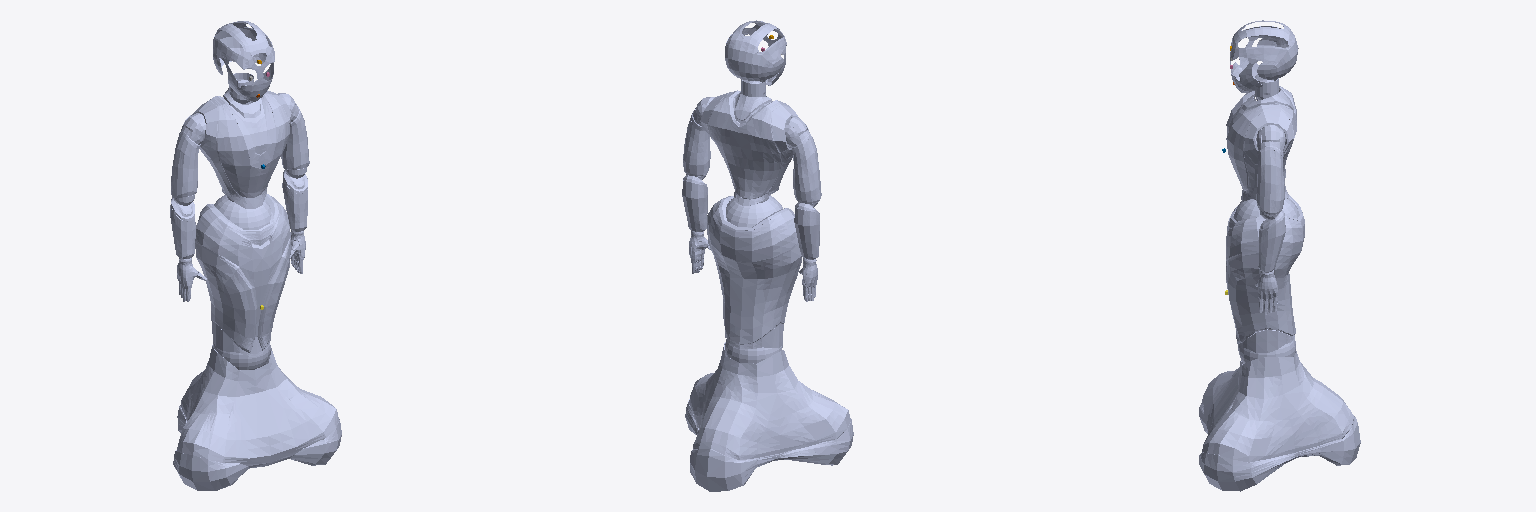
--- Facts derived from the render (not from the file) ---
Views: 3 orthographic renders of the robot side by side, from view 1: azimuth 30°, elevation 25°; view 2: azimuth 150°, elevation 25°; view 3: azimuth 270°, elevation 25°.
Robot: xr1 — 57 links, 56 joints (49 revolute, 7 fixed); root link base_link; default pose: all joints at 0.
Links seen in each view (by area): view 1: base_link, Leg_Link, Back_Link, Head_Link, Right_Arm_Link, Right_Foream_Link, Left_Forearm_Link, Left_Arm_Link, Thigh_Link2, Knee_Link; view 2: base_link, Leg_Link, Back_Link, Head_Link, Right_Arm_Link, Left_Arm_Link, Left_Forearm_Link, Right_Foream_Link, Thigh_Link2, Knee_Link; view 3: base_link, Leg_Link, Back_Link, Head_Link, Left_Arm_Link, Left_Forearm_Link, Knee_Link, Thigh_Link2.
Boxes of the visible links, <box> form: base_link: <box>173,342,341,490</box>; Leg_Link: <box>195,194,291,353</box>; Back_Link: <box>192,88,291,208</box>; Head_Link: <box>213,21,274,101</box>; Right_Arm_Link: <box>171,115,205,197</box>; Right_Foream_Link: <box>170,194,195,258</box>; Left_Forearm_Link: <box>282,167,307,231</box>; Left_Arm_Link: <box>281,101,309,169</box>; Thigh_Link2: <box>214,195,270,229</box>; Knee_Link: <box>212,322,270,356</box>; base_link: <box>685,339,853,491</box>; Leg_Link: <box>707,196,801,344</box>; Back_Link: <box>700,90,799,205</box>; Head_Link: <box>725,20,786,85</box>; Right_Arm_Link: <box>785,119,821,203</box>; Left_Arm_Link: <box>683,104,710,176</box>; Left_Forearm_Link: <box>682,173,707,231</box>; Right_Foream_Link: <box>794,201,819,258</box>; Thigh_Link2: <box>726,195,782,226</box>; Knee_Link: <box>725,324,783,348</box>; base_link: <box>1199,329,1360,491</box>; Leg_Link: <box>1226,195,1304,343</box>; Back_Link: <box>1226,86,1296,201</box>; Head_Link: <box>1230,20,1298,92</box>; Left_Arm_Link: <box>1256,128,1285,214</box>; Left_Forearm_Link: <box>1258,210,1285,272</box>; Knee_Link: <box>1238,330,1294,352</box>; Thigh_Link2: <box>1234,198,1298,221</box>.
Bounding box of the posed robot: 0.5765 × 0.5061 × 1.5 m (x, y, z).
51 mesh visuals loaded from 51 distinct referenced files (51 binary STL).

The robot description file, URDF, robot "xr1":
<?xml version="1.0" encoding="utf-8"?>
<!-- =================================================================================== -->
<!-- |    This document was autogenerated by xacro from xr1.xacro                      | -->
<!-- |    EDITING THIS FILE BY HAND IS NOT RECOMMENDED                                 | -->
<!-- =================================================================================== -->
<robot name="xr1" xmlns:xacro="http://www.ros.org/wiki/xacro">
  <!-- camera links  -->
  <!-- camera -->
  <gazebo reference="Leg_Camera_Link">
    <sensor name="leg_sensor" type="camera">
      <update_rate>30.0</update_rate>
      <camera name="leg_camera">
        <horizontal_fov>1.3962634</horizontal_fov>
        <image>
          <width>800</width>
          <height>800</height>
          <format>R8G8B8</format>
        </image>
        <clip>
          <near>0.02</near>
          <far>300</far>
        </clip>
        <noise>
          <type>gaussian</type>
          <!-- Noise is sampled independently per pixel on each frame.
               That pixel's noise value is added to each of its color
               channels, which at that point lie in the range [0,1]. -->
          <mean>0.0</mean>
          <stddev>0.007</stddev>
        </noise>
      </camera>
      <plugin filename="libgazebo_ros_camera.so" name="camera_controller">
        <alwaysOn>true</alwaysOn>
        <updateRate>0.0</updateRate>
        <cameraName>XR1/leg_camera</cameraName>
        <imageTopicName>XR1/leg_camera</imageTopicName>
        <cameraInfoTopicName>XR1/leg_camera/info</cameraInfoTopicName>
        <frameName>Leg_Link</frameName>
        <!-- setting hackBaseline to anything but 0.0 will cause a misalignment
            between the gazebo sensor image and the frame it is supposed to
            be attached to -->
        <hackBaseline>0.0</hackBaseline>
        <distortionK1>0.0</distortionK1>
        <distortionK2>0.0</distortionK2>
        <distortionK3>0.0</distortionK3>
        <distortionT1>0.0</distortionT1>
        <distortionT2>0.0</distortionT2>
        <CxPrime>0</CxPrime>
        <Cx>0.0</Cx>
        <Cy>0.0</Cy>
        <focalLength>0.0</focalLength>
      </plugin>
    </sensor>
  </gazebo>
  <gazebo reference="Chest_Camera_Link">
    <sensor name="Chest_sensor" type="camera">
      <update_rate>30.0</update_rate>
      <camera name="Chest_camera">
        <horizontal_fov>1.3962634</horizontal_fov>
        <image>
          <width>800</width>
          <height>800</height>
          <format>R8G8B8</format>
        </image>
        <clip>
          <near>0.02</near>
          <far>300</far>
        </clip>
        <noise>
          <type>gaussian</type>
          <!-- Noise is sampled independently per pixel on each frame.
               That pixel's noise value is added to each of its color
               channels, which at that point lie in the range [0,1]. -->
          <mean>0.0</mean>
          <stddev>0.007</stddev>
        </noise>
      </camera>
      <plugin filename="libgazebo_ros_camera.so" name="camera_controller">
        <alwaysOn>true</alwaysOn>
        <updateRate>0.0</updateRate>
        <cameraName>XR1/Chest_camera</cameraName>
        <imageTopicName>XR1/Chest_camera</imageTopicName>
        <cameraInfoTopicName>XR1/Chest_camera/info</cameraInfoTopicName>
        <frameName>Back_Link</frameName>
        <!-- setting hackBaseline to anything but 0.0 will cause a misalignment
            between the gazebo sensor image and the frame it is supposed to
            be attached to -->
        <hackBaseline>0.0</hackBaseline>
        <distortionK1>0.0</distortionK1>
        <distortionK2>0.0</distortionK2>
        <distortionK3>0.0</distortionK3>
        <distortionT1>0.0</distortionT1>
        <distortionT2>0.0</distortionT2>
        <CxPrime>0</CxPrime>
        <Cx>0.0</Cx>
        <Cy>0.0</Cy>
        <focalLength>0.0</focalLength>
      </plugin>
    </sensor>
  </gazebo>
  <gazebo reference="Mouth_Camera_Link">
    <sensor name="Mouth_sensor" type="camera">
      <update_rate>30.0</update_rate>
      <camera name="Mouth_camera">
        <horizontal_fov>1.3962634</horizontal_fov>
        <image>
          <width>800</width>
          <height>800</height>
          <format>R8G8B8</format>
        </image>
        <clip>
          <near>0.02</near>
          <far>300</far>
        </clip>
        <noise>
          <type>gaussian</type>
          <!-- Noise is sampled independently per pixel on each frame.
               That pixel's noise value is added to each of its color
               channels, which at that point lie in the range [0,1]. -->
          <mean>0.0</mean>
          <stddev>0.007</stddev>
        </noise>
      </camera>
      <plugin filename="libgazebo_ros_camera.so" name="camera_controller">
        <alwaysOn>true</alwaysOn>
        <updateRate>0.0</updateRate>
        <cameraName>XR1/Mouth_camera</cameraName>
        <imageTopicName>XR1/Mouth_camera</imageTopicName>
        <cameraInfoTopicName>XR1/Mouth_camera/info</cameraInfoTopicName>
        <frameName>camera_link_optical</frameName>
        <!-- setting hackBaseline to anything but 0.0 will cause a misalignment
            between the gazebo sensor image and the frame it is supposed to
            be attached to -->
        <hackBaseline>0.0</hackBaseline>
        <distortionK1>0.0</distortionK1>
        <distortionK2>0.0</distortionK2>
        <distortionK3>0.0</distortionK3>
        <distortionT1>0.0</distortionT1>
        <distortionT2>0.0</distortionT2>
        <CxPrime>0</CxPrime>
        <Cx>0.0</Cx>
        <Cy>0.0</Cy>
        <focalLength>0.0</focalLength>
      </plugin>
    </sensor>
  </gazebo>
  <gazebo reference="Left_Eye_camera_Link">
    <sensor name="Left_Eye_sensor" type="camera">
      <update_rate>30.0</update_rate>
      <camera name="Left_Eye_camera">
        <horizontal_fov>1.3962634</horizontal_fov>
        <image>
          <width>800</width>
          <height>800</height>
          <format>R8G8B8</format>
        </image>
        <clip>
          <near>0.02</near>
          <far>300</far>
        </clip>
        <noise>
          <type>gaussian</type>
          <!-- Noise is sampled independently per pixel on each frame.
               That pixel's noise value is added to each of its color
               channels, which at that point lie in the range [0,1]. -->
          <mean>0.0</mean>
          <stddev>0.007</stddev>
        </noise>
      </camera>
      <plugin filename="libgazebo_ros_camera.so" name="camera_controller">
        <alwaysOn>true</alwaysOn>
        <updateRate>0.0</updateRate>
        <cameraName>XR1/Left_Eye_camera</cameraName>
        <imageTopicName>XR1/Left_Eye_camera</imageTopicName>
        <cameraInfoTopicName>XR1/Left_Eye_camera/info</cameraInfoTopicName>
        <frameName>camera_link_optical</frameName>
        <!-- setting hackBaseline to anything but 0.0 will cause a misalignment
            between the gazebo sensor image and the frame it is supposed to
            be attached to -->
        <hackBaseline>0.0</hackBaseline>
        <distortionK1>0.0</distortionK1>
        <distortionK2>0.0</distortionK2>
        <distortionK3>0.0</distortionK3>
        <distortionT1>0.0</distortionT1>
        <distortionT2>0.0</distortionT2>
        <CxPrime>0</CxPrime>
        <Cx>0.0</Cx>
        <Cy>0.0</Cy>
        <focalLength>0.0</focalLength>
      </plugin>
    </sensor>
  </gazebo>
  <gazebo reference="Right_Eye_camera_Link">
    <sensor name="Right_Eye_sensor" type="camera">
      <update_rate>30.0</update_rate>
      <camera name="Right_Eye_camera">
        <horizontal_fov>1.3962634</horizontal_fov>
        <image>
          <width>800</width>
          <height>800</height>
          <format>R8G8B8</format>
        </image>
        <clip>
          <near>0.02</near>
          <far>300</far>
        </clip>
        <noise>
          <type>gaussian</type>
          <!-- Noise is sampled independently per pixel on each frame.
               That pixel's noise value is added to each of its color
               channels, which at that point lie in the range [0,1]. -->
          <mean>0.0</mean>
          <stddev>0.007</stddev>
        </noise>
      </camera>
      <plugin filename="libgazebo_ros_camera.so" name="camera_controller">
        <alwaysOn>true</alwaysOn>
        <updateRate>0.0</updateRate>
        <cameraName>XR1/Right_Eye_camera</cameraName>
        <imageTopicName>XR1/Right_Eye_camera</imageTopicName>
        <cameraInfoTopicName>XR1/Right_Eye_camera/info</cameraInfoTopicName>
        <frameName>Head_link</frameName>
        <!-- setting hackBaseline to anything but 0.0 will cause a misalignment
            between the gazebo sensor image and the frame it is supposed to
            be attached to -->
        <hackBaseline>0.0</hackBaseline>
        <distortionK1>0.0</distortionK1>
        <distortionK2>0.0</distortionK2>
        <distortionK3>0.0</distortionK3>
        <distortionT1>0.0</distortionT1>
        <distortionT2>0.0</distortionT2>
        <CxPrime>0</CxPrime>
        <Cx>0.0</Cx>
        <Cy>0.0</Cy>
        <focalLength>0.0</focalLength>
      </plugin>
    </sensor>
  </gazebo>
  <gazebo reference="Forehead_camera_Link">
    <sensor name="Forehead_sensor" type="camera">
      <update_rate>30.0</update_rate>
      <camera name="Forehead_camera">
        <horizontal_fov>1.3962634</horizontal_fov>
        <image>
          <width>800</width>
          <height>800</height>
          <format>R8G8B8</format>
        </image>
        <clip>
          <near>0.02</near>
          <far>300</far>
        </clip>
        <noise>
          <type>gaussian</type>
          <!-- Noise is sampled independently per pixel on each frame.
               That pixel's noise value is added to each of its color
               channels, which at that point lie in the range [0,1]. -->
          <mean>0.0</mean>
          <stddev>0.007</stddev>
        </noise>
      </camera>
      <plugin filename="libgazebo_ros_camera.so" name="camera_controller">
        <alwaysOn>true</alwaysOn>
        <updateRate>0.0</updateRate>
        <cameraName>XR1/Forehead_camera</cameraName>
        <imageTopicName>XR1/Forehead_camera</imageTopicName>
        <cameraInfoTopicName>XR1/Forehead_camera/info</cameraInfoTopicName>
        <frameName>Head_link</frameName>
        <!-- setting hackBaseline to anything but 0.0 will cause a misalignment
            between the gazebo sensor image and the frame it is supposed to
            be attached to -->
        <hackBaseline>0.0</hackBaseline>
        <distortionK1>0.0</distortionK1>
        <distortionK2>0.0</distortionK2>
        <distortionK3>0.0</distortionK3>
        <distortionT1>0.0</distortionT1>
        <distortionT2>0.0</distortionT2>
        <CxPrime>0</CxPrime>
        <Cx>0.0</Cx>
        <Cy>0.0</Cy>
        <focalLength>0.0</focalLength>
      </plugin>
    </sensor>
  </gazebo>
  <!--   <gazebo reference="Left_Hand_Link">
    <sensor type="camera" name="Left_Hand_camera">
      <update_rate>30.0</update_rate>
      <camera name="head">
        <horizontal_fov>1.3962634</horizontal_fov>
        <image>
          <width>800</width>
          <height>800</height>
          <format>R8G8B8</format>
        </image>
        <clip>
          <near>0.02</near>
          <far>300</far>
        </clip>
        <noise>
          <type>gaussian</type>
          <mean>0.0</mean>
          <stddev>0.007</stddev>
        </noise>
      </camera>
      <plugin name="camera_controller" filename="libgazebo_ros_camera.so">
        <alwaysOn>true</alwaysOn>
        <updateRate>0.0</updateRate>
        <cameraName>XR1/Left_Hand_camera</cameraName>
        <imageTopicName>XR1/Left_Hand_camera</imageTopicName>
        <cameraInfoTopicName>XR1/Left_Hand_camera/info</cameraInfoTopicName>
        <frameName>Left_Hand_Link</frameName>
        <hackBaseline>0.0</hackBaseline>
        <distortionK1>0.0</distortionK1>
        <distortionK2>0.0</distortionK2>
        <distortionK3>0.0</distortionK3>
        <distortionT1>0.0</distortionT1>
        <distortionT2>0.0</distortionT2>
        <CxPrime>0</CxPrime>
        <Cx>0.0</Cx>
        <Cy>0.0</Cy>
        <focalLength>0.0</focalLength>
      </plugin>
    </sensor>
  </gazebo>

  <gazebo reference="Right_Hand_Link">
    <sensor type="camera" name="Right_Hand_camera">
      <update_rate>30.0</update_rate>
      <camera name="head">
        <horizontal_fov>1.3962634</horizontal_fov>
        <image>
          <width>800</width>
          <height>800</height>
          <format>R8G8B8</format>
        </image>
        <clip>
          <near>0.02</near>
          <far>300</far>
        </clip>
        <noise>
          <type>gaussian</type>
          <mean>0.0</mean>
          <stddev>0.007</stddev>
        </noise>
      </camera>
      <plugin name="camera_controller" filename="libgazebo_ros_camera.so">
        <alwaysOn>true</alwaysOn>
        <updateRate>0.0</updateRate>
        <cameraName>XR1/Right_Hand_camera</cameraName>
        <imageTopicName>XR1/Right_Hand_camera</imageTopicName>
        <cameraInfoTopicName>XR1/Right_Hand_camera/info</cameraInfoTopicName>
        <frameName>Right_Hand_Link</frameName>

        <hackBaseline>0.0</hackBaseline>
        <distortionK1>0.0</distortionK1>
        <distortionK2>0.0</distortionK2>
        <distortionK3>0.0</distortionK3>
        <distortionT1>0.0</distortionT1>
        <distortionT2>0.0</distortionT2>
        <CxPrime>0</CxPrime>
        <Cx>0.0</Cx>
        <Cy>0.0</Cy>
        <focalLength>0.0</focalLength>
      </plugin>
    </sensor>
  </gazebo>
 -->
  <link name="base_link">
    <inertial>
      <origin rpy="0 0 0" xyz="3.7967E-06 -0.014178 0.36294"/>
      <mass value="36.19"/>
      <inertia ixx="0.2837" ixy="6.6528E-07" ixz="1.7113E-06" iyy="0.2837" iyz="-9.4304E-05" izz="0.4608"/>
    </inertial>
    <visual>
      <origin rpy="0 0 0" xyz="0 0 0"/>
      <geometry>
        <mesh filename="package://xr1urdf/meshes/base_link.STL"/>
      </geometry>
      <material name="">
        <color rgba="0.79216 0.81961 0.93333 1"/>
      </material>
    </visual>
    <collision>
      <origin rpy="0 0 0" xyz="0 0 0"/>
      <geometry>
        <mesh filename="package://xr1urdf/meshes/base_link.STL"/>
      </geometry>
    </collision>
  </link>
  <link name="Knee_Link">
    <inertial>
      <origin rpy="0 0 0" xyz="-0.0018369 -0.052916 -5.4938E-05"/>
      <mass value="8.175"/>
      <inertia ixx="0.09013" ixy="7.826E-06" ixz="-7.279E-06" iyy="0.1181" iyz="6.324E-05" izz="0.118"/>
    </inertial>
    <visual>
      <origin rpy="0 0 0" xyz="0 0 0"/>
      <geometry>
        <mesh filename="package://xr1urdf/meshes/Knee_Link.STL"/>
      </geometry>
      <material name="">
        <color rgba="0.79216 0.81961 0.93333 1"/>
      </material>
    </visual>
    <collision>
      <origin rpy="0 0 0" xyz="0 0 0"/>
      <geometry>
        <mesh filename="package://xr1urdf/meshes/Knee_Link.STL"/>
      </geometry>
    </collision>
  </link>
  <joint name="Knee_X" type="revolute">
    <origin rpy="-1.5708 0.033734 -1.5708" xyz="5.4938E-05 -0.013143 0.40405"/>
    <parent link="base_link"/>
    <child link="Knee_Link"/>
    <axis xyz="0 0 1"/>
    <limit effort="30" lower="-0.691" upper="0.691" velocity="3.14"/>
    <dynamics friction="0.1"/>
  </joint>
  <link name="Leg_Link">
    <inertial>
      <origin rpy="0 0 0" xyz="0.0043847 -0.29449 -8.7888E-05"/>
      <mass value="0.32293"/>
      <inertia ixx="0.00058566" ixy="-2.0496E-05" ixz="3.9125E-09" iyy="7.173E-07" iyz="1.118E-07" izz="0.00058637"/>
    </inertial>
    <visual>
      <origin rpy="0 0 0" xyz="0 0 0"/>
      <geometry>
        <mesh filename="package://xr1urdf/meshes/Leg_Link.STL"/>
      </geometry>
      <material name="">
        <color rgba="0.79216 0.81961 0.93333 1"/>
      </material>
    </visual>
    <collision>
      <origin rpy="0 0 0" xyz="0 0 0"/>
      <geometry>
        <mesh filename="package://xr1urdf/meshes/Leg_Link.STL"/>
      </geometry>
    </collision>
  </link>
  <joint name="Leg_D" type="fixed">
    <origin rpy="0 0 6.9389E-18" xyz="0 0 0"/>
    <parent link="Knee_Link"/>
    <child link="Leg_Link"/>
    <axis xyz="0 0 0"/>
    <dynamics friction="0.1"/>
  </joint>
  <link name="Thigh_Link">
    <inertial>
      <origin rpy="0 0 0" xyz="-0.013604 -0.00011257 0.42407"/>
      <mass value="0.8847"/>
      <inertia ixx="0.1604" ixy="0" ixz="0" iyy="0.1604" iyz="0" izz="0.1024"/>
    </inertial>
    <visual>
      <origin rpy="0 0 0" xyz="0 0 0"/>
      <geometry>
        <mesh filename="package://xr1urdf/meshes/Thigh_Link.STL"/>
      </geometry>
      <material name="">
        <color rgba="0.79216 0.81961 0.93333 1"/>
      </material>
    </visual>
    <collision>
      <origin rpy="0 0 0" xyz="0 0 0"/>
      <geometry>
        <mesh filename="package://xr1urdf/meshes/Thigh_Link.STL"/>
      </geometry>
    </collision>
  </link>
  <joint name="Back_Z" type="revolute">
    <origin rpy="1.5707 0 -0.0012161" xyz="0 0 0"/>
    <parent link="Leg_Link"/>
    <child link="Thigh_Link"/>
    <axis xyz="-0.032512 -0.00013583 0.99947"/>
    <limit effort="30" lower="-1.57" upper="1.57" velocity="3.14"/>
    <dynamics friction="0.1"/>
  </joint>
  <link name="Thigh_Link2">
    <inertial>
      <origin rpy="0 0 0" xyz="1.3517E-08 -1.7091E-08 -5.4937E-05"/>
      <mass value="0.6035"/>
      <inertia ixx="0.1537" ixy="0" ixz="0" iyy="0.1537" iyz="0" izz="0.0968"/>
    </inertial>
    <visual>
      <origin rpy="0 0 0" xyz="0 0 0"/>
      <geometry>
        <mesh filename="package://xr1urdf/meshes/Thigh_Link2.STL"/>
      </geometry>
      <material name="">
        <color rgba="0.79216 0.81961 0.93333 1"/>
      </material>
    </visual>
    <collision>
      <origin rpy="0 0 0" xyz="0 0 0"/>
      <geometry>
        <mesh filename="package://xr1urdf/meshes/Thigh_Link2.STL"/>
      </geometry>
    </collision>
  </link>
  <joint name="Back_X" type="revolute">
    <origin rpy="-1.5707 -0.032068 -4.3595E-06" xyz="-0.013604 -5.763E-05 0.42407"/>
    <parent link="Thigh_Link"/>
    <child link="Thigh_Link2"/>
    <axis xyz="0 0 1"/>
    <limit effort="30" lower="-0.691" upper="0.691" velocity="3.14"/>
    <dynamics friction="0.1"/>
  </joint>
  <link name="Back_Link">
    <inertial>
      <origin rpy="0 0 0" xyz="0.064471 3.1609E-05 0.017862"/>
      <mass value="13.87"/>
      <inertia ixx="0.09994" ixy="8.3465E-08" ixz="-0.00048977" iyy="0.1191" iyz="1.3363E-07" izz="0.1071"/>
    </inertial>
    <visual>
      <origin rpy="0 0 0" xyz="0 0 0"/>
      <geometry>
        <mesh filename="package://xr1urdf/meshes/Back_Link.STL"/>
      </geometry>
      <material name="">
        <color rgba="0.79216 0.81961 0.93333 1"/>
      </material>
    </visual>
    <collision>
      <origin rpy="0 0 0" xyz="0 0 0"/>
      <geometry>
        <mesh filename="package://xr1urdf/meshes/Back_Link.STL"/>
      </geometry>
    </collision>
  </link>
  <joint name="Back_Y" type="revolute">
    <origin rpy="-1.5708 0 -1.5712" xyz="-0.013865 -0.10565 -2.6926E-05"/>
    <parent link="Thigh_Link2"/>
    <child link="Back_Link"/>
    <axis xyz="0 0 1"/>
    <limit effort="30" lower="-1.01" upper="1.01" velocity="3.14"/>
    <dynamics friction="0.1"/>
  </joint>
  <link name="Neck_Link">
    <inertial>
      <origin rpy="0 0 0" xyz="-0.00011159 0.026435 0.35317"/>
      <mass value="0.6805"/>
      <inertia ixx="0.0009499" ixy="0" ixz="0" iyy="0.0009499" iyz="0" izz="0.000722"/>
    </inertial>
    <visual>
      <origin rpy="0 0 0" xyz="0 0 0"/>
      <geometry>
        <mesh filename="package://xr1urdf/meshes/Neck_Link.STL"/>
      </geometry>
      <material name="">
        <color rgba="0.79216 0.81961 0.93333 1"/>
      </material>
    </visual>
    <collision>
      <origin rpy="0 0 0" xyz="0 0 0"/>
      <geometry>
        <mesh filename="package://xr1urdf/meshes/Neck_Link.STL"/>
      </geometry>
    </collision>
  </link>
  <joint name="Neck_Z" type="revolute">
    <origin rpy="-1.45576756643559 0.00585422888906165 -1.5707963267949" xyz="0 0 0"/>
    <parent link="Back_Link"/>
    <child link="Neck_Link"/>
    <axis xyz="-6.48829923723553E-05 0.103758479857577 0.994602520431073"/>
    <limit effort="30" lower="-1.57" upper="1.57" velocity="3.14"/>
  </joint>
  <link name="Neck_Link2">
    <inertial>
      <origin rpy="0 0 0" xyz="-0.00017003 -0.015117 -5.4883E-05"/>
      <mass value="0.4417"/>
      <inertia ixx="0.0003943" ixy="0" ixz="0" iyy="0.0003943" iyz="0" izz="0.000338"/>
    </inertial>
    <visual>
      <origin rpy="0 0 0" xyz="0 0 0"/>
      <geometry>
        <mesh filename="package://xr1urdf/meshes/Neck_Link2.STL"/>
      </geometry>
      <material name="">
        <color rgba="0.79216 0.81961 0.93333 1"/>
      </material>
    </visual>
    <collision>
      <origin rpy="0 0 0" xyz="0 0 0"/>
      <geometry>
        <mesh filename="package://xr1urdf/meshes/Neck_Link2.STL"/>
      </geometry>
    </collision>
  </link>
  <joint name="Neck_X" type="revolute">
    <origin rpy="-1.570120763762 -0.103943394823006 -1.57668196274022" xyz="-5.66462826414854E-05 0.0264756614309742 0.353526594203303"/>
    <parent link="Neck_Link"/>
    <child link="Neck_Link2"/>
    <axis xyz="0 0 1"/>
    <limit effort="30" lower="-1.01" upper="0.628" velocity="3.14"/>
  </joint>
  <link name="Head_Link">
    <inertial>
      <origin rpy="0 0 0" xyz="0.078614 2.5049E-06 0.024556"/>
      <mass value="1.661"/>
      <inertia ixx="0.01505" ixy="0" ixz="0" iyy="0.01505" iyz="0" izz="0.01212"/>
    </inertial>
    <visual>
      <origin rpy="0 0 0" xyz="0 0 0"/>
      <geometry>
        <mesh filename="package://xr1urdf/meshes/Head_Link.STL"/>
      </geometry>
      <material name="">
        <color rgba="0.79216 0.81961 0.93333 1"/>
      </material>
    </visual>
    <collision>
      <origin rpy="0 0 0" xyz="0 0 0"/>
      <geometry>
        <mesh filename="package://xr1urdf/meshes/Head_Link.STL"/>
      </geometry>
    </collision>
  </link>
  <joint name="Head_Y" type="revolute">
    <origin rpy="-1.5707963267949 0 -1.58187971499664" xyz="-0.0148356484587829 -0.0504585752470172 0"/>
    <parent link="Neck_Link2"/>
    <child link="Head_Link"/>
    <axis xyz="0 0 1"/>
    <limit effort="30" lower="-1.26" upper="1.26" velocity="3.14"/>
  </joint>
  <link name="Left_Shoulder_Link">
    <inertial>
      <origin rpy="0 0 0" xyz="-4.1264E-05 -0.00075572 -0.00067551"/>
      <mass value="0.8107"/>
      <inertia ixx="0.08447" ixy="0" ixz="0" iyy="0.08447" iyz="0" izz="0.06554"/>
    </inertial>
    <visual>
      <origin rpy="0 0 0" xyz="0 0 0"/>
      <geometry>
        <mesh filename="package://xr1urdf/meshes/Left_Shoulder_Link.STL"/>
      </geometry>
      <material name="">
        <color rgba="0.79216 0.81961 0.93333 1"/>
      </material>
    </visual>
    <collision>
      <origin rpy="0 0 0" xyz="0 0 0"/>
      <geometry>
        <mesh filename="package://xr1urdf/meshes/Left_Shoulder_Link.STL"/>
      </geometry>
    </collision>
  </link>
  <joint name="Left_Shoulder_X" type="revolute">
    <origin rpy="1.9199 -1.5708 0" xyz="0.25847 -0.15106 0.001585"/>
    <parent link="Back_Link"/>
    <child link="Left_Shoulder_Link"/>
    <axis xyz="0 0 1"/>
    <limit effort="30" lower="-2.26" upper="2.26" velocity="3.14"/>
    <dynamics friction="0.1"/>
  </joint>
  <link name="Left_Arm_Link">
    <inertial>
      <origin rpy="0 0 0" xyz="0.10178 0.03894 0.00067822"/>
      <mass value="1.022"/>
      <inertia ixx="0.05869" ixy="-5.2828E-05" ixz="-4.5659E-06" iyy="0.05866" iyz="-9.0249E-07" izz="0.01331"/>
    </inertial>
    <visual>
      <origin rpy="0 0 0" xyz="0 0 0"/>
      <geometry>
        <mesh filename="package://xr1urdf/meshes/Left_Arm_Link.STL"/>
      </geometry>
      <material name="">
        <color rgba="0.79216 0.81961 0.93333 1"/>
      </material>
    </visual>
    <collision>
      <origin rpy="0 0 0" xyz="0 0 0"/>
      <geometry>
        <mesh filename="package://xr1urdf/meshes/Left_Arm_Link.STL"/>
      </geometry>
    </collision>
  </link>
  <joint name="Left_Shoulder_Y" type="revolute">
    <origin rpy="1.5708 0.3491 1.5708" xyz="0 0 0"/>
    <parent link="Left_Shoulder_Link"/>
    <child link="Left_Arm_Link"/>
    <axis xyz="0 0 1"/>
    <limit effort="30" lower="-0.188" upper="1.88" velocity="3.14"/>
    <dynamics friction="0.1"/>
  </joint>
  <link name="Left_Elbow_Link">
    <inertial>
      <origin rpy="0 0 0" xyz="7.2184E-05 5.6121E-05 -0.21867"/>
      <mass value="0.7854"/>
      <inertia ixx="0.02333" ixy="0" ixz="0" iyy="0.02333" iyz="0" izz="0.02"/>
    </inertial>
    <visual>
      <origin rpy="0 0 0" xyz="0 0 0"/>
      <geometry>
        <mesh filename="package://xr1urdf/meshes/Left_Elbow_Link.STL"/>
      </geometry>
      <material name="">
        <color rgba="0.79216 0.81961 0.93333 1"/>
      </material>
    </visual>
    <collision>
      <origin rpy="0 0 0" xyz="0 0 0"/>
      <geometry>
        <mesh filename="package://xr1urdf/meshes/Left_Elbow_Link.STL"/>
      </geometry>
    </collision>
  </link>
  <joint name="Left_Elbow_Z" type="revolute">
    <origin rpy="-1.5708 0 1.5708" xyz="0 0.051343 0.0030704"/>
    <parent link="Left_Arm_Link"/>
    <child link="Left_Elbow_Link"/>
    <axis xyz="0 0 -1"/>
    <limit effort="30" lower="-3.14" upper="3.14" velocity="3.14"/>
  </joint>
  <link name="Left_Forearm_Link">
    <inertial>
      <origin rpy="0 0 0" xyz="-0.004929 0.04719 0.00056402"/>
      <mass value="0.6233"/>
      <inertia ixx="0.01023" ixy="-3.6841E-06" ixz="3.8131E-08" iyy="0.01019" iyz="-5.0227E-07" izz="0.002818"/>
    </inertial>
    <visual>
      <origin rpy="0 0 0" xyz="0 0 0"/>
      <geometry>
        <mesh filename="package://xr1urdf/meshes/Left_Forearm_Link.STL"/>
      </geometry>
      <material name="">
        <color rgba="0.79216 0.81961 0.93333 1"/>
      </material>
    </visual>
    <collision>
      <origin rpy="0 0 0" xyz="0 0 0"/>
      <geometry>
        <mesh filename="package://xr1urdf/meshes/Left_Forearm_Link.STL"/>
      </geometry>
    </collision>
  </link>
  <joint name="Left_Elbow_X" type="revolute">
    <origin rpy="-1.5707963267949 0 -1.5707963267949" xyz="7.21835432308526E-05 5.61241489814741E-05 -0.218666930883292"/>
    <parent link="Left_Elbow_Link"/>
    <child link="Left_Forearm_Link"/>
    <axis xyz="0 0 1"/>
    <limit effort="30" lower="-1.57" upper="0.1" velocity="3.14"/>
  </joint>
  <link name="Left_Wrist_Link">
    <inertial>
      <origin rpy="0 0 0" xyz="0.0089917 -0.0016706 0.19203"/>
      <mass value="0.5487"/>
      <inertia ixx="0.01411" ixy="0" ixz="0" iyy="0.01411" iyz="0" izz="0.02687"/>
    </inertial>
    <visual>
      <origin rpy="0 0 0" xyz="0 0 0"/>
      <geometry>
        <mesh filename="package://xr1urdf/meshes/Left_Wrist_Link.STL"/>
      </geometry>
      <material name="">
        <color rgba="0.79216 0.81961 0.93333 1"/>
      </material>
    </visual>
    <collision>
      <origin rpy="0 0 0" xyz="0 0 0"/>
      <geometry>
        <mesh filename="package://xr1urdf/meshes/Left_Wrist_Link.STL"/>
      </geometry>
    </collision>
  </link>
  <joint name="Left_Wrist_Z" type="revolute">
    <origin rpy="-1.5707963267949 0 0" xyz="0 0 0"/>
    <parent link="Left_Forearm_Link"/>
    <child link="Left_Wrist_Link"/>
    <axis xyz="0 0 1"/>
    <limit effort="30" lower="-3.14" upper="3.14" velocity="3.14"/>
  </joint>
  <link name="Left_Wrist_Link2">
    <inertial>
      <origin rpy="0 0 0" xyz="0.012461 0.0028972 -0.08048"/>
      <mass value="0.5362"/>
      <inertia ixx="0.00512" ixy="0" ixz="0" iyy="0.00512" iyz="0" izz="0.00512"/>
    </inertial>
    <visual>
      <origin rpy="0 0 0" xyz="-0.011375266 0 0.080476412"/>
      <geometry>
        <mesh filename="package://xr1urdf/meshes/Left_Wrist_Link2.STL"/>
      </geometry>
      <material name="">
        <color rgba="0.79216 0.81961 0.93333 1"/>
      </material>
    </visual>
    <collision>
      <origin rpy="0 0 0" xyz="0 0 0"/>
      <geometry>
        <mesh filename="package://xr1urdf/meshes/Left_Wrist_Link2.STL"/>
      </geometry>
    </collision>
  </link>
  <joint name="Left_Wrist_Y" type="revolute">
    <origin rpy="-1.5707963267949 0 -1.5707963267949" xyz="0.00784287714185615 0.000519681604099265 0.219279727935792"/>
    <parent link="Left_Wrist_Link"/>
    <child link="Left_Wrist_Link2"/>
    <axis xyz="0 0 1"/>
    <limit effort="30" lower="-1.07" upper="1.13" velocity="3.14"/>
  </joint>
  <link name="Left_Hand_Link">
    <inertial>
      <origin rpy="0 0 0" xyz="0.031243 0.080045 0.012473"/>
      <mass value="0.1449"/>
      <inertia ixx="0.006855" ixy="0" ixz="0" iyy="0.005574" iyz="0" izz="0.00377"/>
    </inertial>
    <visual>
      <origin rpy="0 0 0" xyz="0 -0.080476412 -0.011375266"/>
      <geometry>
        <mesh filename="package://xr1urdf/meshes/Left_Hand_Link.STL"/>
      </geometry>
      <material name="">
        <color rgba="0.79216 0.81961 0.93333 1"/>
      </material>
    </visual>
    <collision>
      <origin rpy="0 0 0" xyz="0 0 0"/>
      <geometry>
        <mesh filename="package://xr1urdf/meshes/Left_Hand_Link.STL"/>
      </geometry>
    </collision>
  </link>
  <joint name="Left_Wrist_X" type="revolute">
    <origin rpy="-1.5707963267949 0 -1.5707963267949" xyz="0 0 0"/>
    <parent link="Left_Wrist_Link2"/>
    <child link="Left_Hand_Link"/>
    <axis xyz="0 0 1"/>
    <limit effort="30" lower="-0.88" upper="0.754" velocity="3.14"/>
  </joint>
  <link name="Left_1_1_Link">
    <inertial>
      <origin rpy="0 0 0" xyz="-0.002186 -0.0013399 -0.00013841"/>
      <mass value="0.06844"/>
      <inertia ixx="0.001031" ixy="-1.6265E-08" ixz="-1.6801E-09" iyy="0.001031" iyz="-1.0299E-09" izz="0.001501"/>
    </inertial>
    <visual>
      <origin rpy="0 0 0" xyz="0 0 0"/>
      <geometry>
        <mesh filename="package://xr1urdf/meshes/Left_1_1_Link.STL"/>
      </geometry>
      <material name="">
        <color rgba="0.79216 0.81961 0.93333 1"/>
      </material>
    </visual>
    <collision>
      <origin rpy="0 0 0" xyz="0 0 0"/>
      <geometry>
        <mesh filename="package://xr1urdf/meshes/Left_1_1_Link.STL"/>
      </geometry>
    </collision>
  </link>
  <joint name="Left_1_1_Joint" type="revolute">
    <origin rpy="0 -1.00156316575 1.94835151482426" xyz="0.0463873711048263 -0.0227514450525238 -0.0270481463075324"/>
    <parent link="Left_Hand_Link"/>
    <child link="Left_1_1_Link"/>
    <axis xyz="0 0 1"/>
    <limit effort="30" lower="0.0" upper="1.21" velocity="3.14"/>
  </joint>
  <link name="Left_1_2_Link">
    <inertial>
      <origin rpy="0 0 0" xyz="-0.0042083 -0.001782 -1.4605E-05"/>
      <mass value="0.01812"/>
      <inertia ixx="0.0005327" ixy="-1.8137E-08" ixz="-1.4873E-10" iyy="0.0007867" iyz="-6.2976E-11" izz="0.0005335"/>
    </inertial>
    <visual>
      <origin rpy="0 0 0" xyz="0 0 0"/>
      <geometry>
        <mesh filename="package://xr1urdf/meshes/Left_1_2_Link.STL"/>
      </geometry>
      <material name="">
        <color rgba="0.79216 0.81961 0.93333 1"/>
      </material>
    </visual>
    <collision>
      <origin rpy="0 0 0" xyz="0 0 0"/>
      <geometry>
        <mesh filename="package://xr1urdf/meshes/Left_1_2_Link.STL"/>
      </geometry>
    </collision>
  </link>
  <joint name="Left_1_2_Joint" type="revolute">
    <origin rpy="-6.90671092873486E-07 4.78610937881837E-07 -4.41951919144599E-07" xyz="-0.0145863076944239 -0.00868903405537458 0"/>
    <parent link="Left_1_1_Link"/>
    <child link="Left_1_2_Link"/>
    <axis xyz="0 0 1"/>
    <limit effort="30" lower="0.0" upper="1.45" velocity="3.14"/>
  </joint>
  <link name="Left_2_1_Link">
    <inertial>
      <origin rpy="0 0 0" xyz="6.0375E-05 -0.004442 -8.9343E-05"/>
      <mass value="0.05105"/>
      <inertia ixx="0.0017" ixy="1.0587E-09" ixz="2.1295E-11" iyy="0.0017" iyz="-1.5667E-09" izz="0.002498"/>
    </inertial>
    <visual>
      <origin rpy="0 0 0" xyz="0 0 0"/>
      <geometry>
        <mesh filename="package://xr1urdf/meshes/Left_2_1_Link.STL"/>
      </geometry>
      <material name="">
        <color rgba="0.79216 0.81961 0.93333 1"/>
      </material>
    </visual>
    <collision>
      <origin rpy="0 0 0" xyz="0 0 0"/>
      <geometry>
        <mesh filename="package://xr1urdf/meshes/Left_2_1_Link.STL"/>
      </geometry>
    </collision>
  </link>
  <joint name="Left_2_1_Joint" type="revolute">
    <origin rpy="1.5707963267949 -1.5707963267949 0" xyz="0.07421799091684 -0.0211750333284337 -0.000927044928134585"/>
    <parent link="Left_Hand_Link"/>
    <child link="Left_2_1_Link"/>
    <axis xyz="0 0 -1"/>
    <limit effort="30" lower="0.0" upper="1.00" velocity="3.14"/>
  </joint>
  <link name="Left_2_2_Link">
    <inertial>
      <origin rpy="0 0 0" xyz="0.0004717 -0.0059497 -0.00010746"/>
      <mass value="0.01234"/>
      <inertia ixx="0.0008295" ixy="5.6493E-09" ixz="1.0204E-10" iyy="0.0008295" iyz="-1.287E-09" izz="0.001208"/>
    </inertial>
    <visual>
      <origin rpy="0 0 0" xyz="0 0 0"/>
      <geometry>
        <mesh filename="package://xr1urdf/meshes/Left_2_2_Link.STL"/>
      </geometry>
      <material name="">
        <color rgba="0.79216 0.81961 0.93333 1"/>
      </material>
    </visual>
    <collision>
      <origin rpy="0 0 0" xyz="0 0 0"/>
      <geometry>
        <mesh filename="package://xr1urdf/meshes/Left_2_2_Link.STL"/>
      </geometry>
    </collision>
  </link>
  <joint name="Left_2_2_Joint" type="revolute">
    <origin rpy="0 0 0" xyz="0 -0.0180361175537143 0"/>
    <parent link="Left_2_1_Link"/>
    <child link="Left_2_2_Link"/>
    <axis xyz="0 0 -1"/>
    <limit effort="30" lower="0.0" upper="1.20" velocity="3.14"/>
  </joint>
  <link name="Left_2_3_Link">
    <inertial>
      <origin rpy="0 0 0" xyz="0.00082688 -0.0043373 -0.00010313"/>
      <mass value="0.006588"/>
      <inertia ixx="0.0002138" ixy="7.3617E-09" ixz="1.7504E-10" iyy="0.0003146" iyz="-9.1816E-10" izz="0.0002119"/>
    </inertial>
    <visual>
      <origin rpy="0 0 0" xyz="0 0 0"/>
      <geometry>
        <mesh filename="package://xr1urdf/meshes/Left_2_3_Link.STL"/>
      </geometry>
      <material name="">
        <color rgba="0.79216 0.81961 0.93333 1"/>
      </material>
    </visual>
    <collision>
      <origin rpy="0 0 0" xyz="0 0 0"/>
      <geometry>
        <mesh filename="package://xr1urdf/meshes/Left_2_3_Link.STL"/>
      </geometry>
    </collision>
  </link>
  <joint name="Left_2_3_Joint" type="revolute">
    <origin rpy="0 0 0" xyz="0 -0.0220256805419884 0"/>
    <parent link="Left_2_2_Link"/>
    <child link="Left_2_3_Link"/>
    <axis xyz="0 0 -1"/>
    <limit effort="30" lower="0.0" upper="1.45" velocity="3.14"/>
  </joint>
  <link name="Left_3_1_Link">
    <inertial>
      <origin rpy="0 0 0" xyz="0.00013722 -0.0054219 1.8135E-05"/>
      <mass value="0.05197"/>
      <inertia ixx="0.001723" ixy="3.2178E-09" ixz="-1.0762E-11" iyy="0.001723" iyz="4.2522E-10" izz="0.002543"/>
    </inertial>
    <visual>
      <origin rpy="0 0 0" xyz="0 0 0"/>
      <geometry>
        <mesh filename="package://xr1urdf/meshes/Left_3_1_Link.STL"/>
      </geometry>
      <material name="">
        <color rgba="0.79216 0.81961 0.93333 1"/>
      </material>
    </visual>
    <collision>
      <origin rpy="0 0 0" xyz="0 0 0"/>
      <geometry>
        <mesh filename="package://xr1urdf/meshes/Left_3_1_Link.STL"/>
      </geometry>
    </collision>
  </link>
  <joint name="Left_3_1_Joint" type="revolute">
    <origin rpy="1.5707963267949 -1.5707963267949 0" xyz="0.0764901009021922 -0.00561489331473879 0.00175480169051168"/>
    <parent link="Left_Hand_Link"/>
    <child link="Left_3_1_Link"/>
    <axis xyz="0 0 -1"/>
    <limit effort="30" lower="0.0" upper="1.17" velocity="3.14"/>
  </joint>
  <link name="Left_3_2_Link">
    <inertial>
      <origin rpy="0 0 0" xyz="0.00056785 -0.0061714 1.9798E-05"/>
      <mass value="0.01299"/>
      <inertia ixx="0.0008611" ixy="7.0543E-09" ixz="-2.2631E-11" iyy="0.0008611" iyz="2.4596E-10" izz="0.001271"/>
    </inertial>
    <visual>
      <origin rpy="0 0 0" xyz="0 0 0"/>
      <geometry>
        <mesh filename="package://xr1urdf/meshes/Left_3_2_Link.STL"/>
      </geometry>
      <material name="">
        <color rgba="0.79216 0.81961 0.93333 1"/>
      </material>
    </visual>
    <collision>
      <origin rpy="0 0 0" xyz="0 0 0"/>
      <geometry>
        <mesh filename="package://xr1urdf/meshes/Left_3_2_Link.STL"/>
      </geometry>
    </collision>
  </link>
  <joint name="Left_3_2_Joint" type="revolute">
    <origin rpy="0 0 0" xyz="0 -0.0205278778076161 0"/>
    <parent link="Left_3_1_Link"/>
    <child link="Left_3_2_Link"/>
    <axis xyz="0 0 -1"/>
    <limit effort="30" lower="0.0" upper="1.41" velocity="3.14"/>
  </joint>
  <link name="Left_3_3_Link">
    <inertial>
      <origin rpy="0 0 0" xyz="0.00092117 -0.0045548 2.1672E-05"/>
      <mass value="0.006329"/>
      <inertia ixx="0.0002073" ixy="8.6123E-09" ixz="-4.0979E-11" iyy="0.0003018" iyz="2.0262E-10" izz="0.0002056"/>
    </inertial>
    <visual>
      <origin rpy="0 0 0" xyz="0 0 0"/>
      <geometry>
        <mesh filename="package://xr1urdf/meshes/Left_3_3_Link.STL"/>
      </geometry>
      <material name="">
        <color rgba="0.79216 0.81961 0.93333 1"/>
      </material>
    </visual>
    <collision>
      <origin rpy="0 0 0" xyz="0 0 0"/>
      <geometry>
        <mesh filename="package://xr1urdf/meshes/Left_3_3_Link.STL"/>
      </geometry>
    </collision>
  </link>
  <joint name="Left_3_3_Joint" type="revolute">
    <origin rpy="0 0 0" xyz="0 -0.0220256042480496 0"/>
    <parent link="Left_3_2_Link"/>
    <child link="Left_3_3_Link"/>
    <axis xyz="0 0 -1"/>
    <limit effort="30" lower="0.0" upper="1.69" velocity="3.14"/>
  </joint>
  <link name="Left_4_1_Link">
    <inertial>
      <origin rpy="0 0 0" xyz="8.9301E-05 -0.0047682 6.5533E-05"/>
      <mass value="0.04255"/>
      <inertia ixx="0.001576" ixy="1.6758E-09" ixz="-2.3031E-11" iyy="0.001576" iyz="1.2297E-09" izz="0.002552"/>
    </inertial>
    <visual>
      <origin rpy="0 0 0" xyz="0 0 0"/>
      <geometry>
        <mesh filename="package://xr1urdf/meshes/Left_4_1_Link.STL"/>
      </geometry>
      <material name="">
        <color rgba="0.79216 0.81961 0.93333 1"/>
      </material>
    </visual>
    <collision>
      <origin rpy="0 0 0" xyz="0 0 0"/>
      <geometry>
        <mesh filename="package://xr1urdf/meshes/Left_4_1_Link.STL"/>
      </geometry>
    </collision>
  </link>
  <joint name="Left_4_1_Joint" type="revolute">
    <origin rpy="1.5707963267949 -1.5707963267949 0" xyz="0.073528980296718 0.00968487170586999 0.000963213860921908"/>
    <parent link="Left_Hand_Link"/>
    <child link="Left_4_1_Link"/>
    <axis xyz="0 0 -1"/>
    <limit effort="30" lower="0.0" upper="1.20" velocity="3.14"/>
  </joint>
  <link name="Left_4_2_Link">
    <inertial>
      <origin rpy="0 0 0" xyz="0.00050562 -0.0052511 7.4747E-05"/>
      <mass value="0.01146"/>
      <inertia ixx="0.0007867" ixy="5.3445E-09" ixz="-7.6075E-11" iyy="0.0007867" iyz="7.9006E-10" izz="0.001122"/>
    </inertial>
    <visual>
      <origin rpy="0 0 0" xyz="0 0 0"/>
      <geometry>
        <mesh filename="package://xr1urdf/meshes/Left_4_2_Link.STL"/>
      </geometry>
      <material name="">
        <color rgba="0.79216 0.81961 0.93333 1"/>
      </material>
    </visual>
    <collision>
      <origin rpy="0 0 0" xyz="0 0 0"/>
      <geometry>
        <mesh filename="package://xr1urdf/meshes/Left_4_2_Link.STL"/>
      </geometry>
    </collision>
  </link>
  <joint name="Left_4_2_Joint" type="revolute">
    <origin rpy="0 0 0" xyz="0 -0.0203540802001998 0"/>
    <parent link="Left_4_1_Link"/>
    <child link="Left_4_2_Link"/>
    <axis xyz="0 0 -1"/>
    <limit effort="30" lower="0.0" upper="1.45" velocity="3.14"/>
  </joint>
  <link name="Left_4_3_Link">
    <inertial>
      <origin rpy="0 0 0" xyz="0.00086014 -0.0036522 7.5558E-05"/>
      <mass value="0.00662"/>
      <inertia ixx="0.0002145" ixy="6.4482E-09" ixz="-1.334E-10" iyy="0.0003161" iyz="5.6641E-10" izz="0.0002127"/>
    </inertial>
    <visual>
      <origin rpy="0 0 0" xyz="0 0 0"/>
      <geometry>
        <mesh filename="package://xr1urdf/meshes/Left_4_3_Link.STL"/>
      </geometry>
      <material name="">
        <color rgba="0.79216 0.81961 0.93333 1"/>
      </material>
    </visual>
    <collision>
      <origin rpy="0 0 0" xyz="0 0 0"/>
      <geometry>
        <mesh filename="package://xr1urdf/meshes/Left_4_3_Link.STL"/>
      </geometry>
    </collision>
  </link>
  <joint name="Left_4_3_Joint" type="revolute">
    <origin rpy="0 0 0" xyz="0 -0.0220256805419927 0"/>
    <parent link="Left_4_2_Link"/>
    <child link="Left_4_3_Link"/>
    <axis xyz="0 0 -1"/>
    <limit effort="30" lower="0.0" upper="1.74" velocity="3.14"/>
  </joint>
  <link name="Left_5_1_Link">
    <inertial>
      <origin rpy="0 0 0" xyz="-0.00046586 -0.0042115 8.9979E-05"/>
      <mass value="0.0465"/>
      <inertia ixx="0.001585" ixy="-6.979E-09" ixz="1.4911E-10" iyy="0.001585" iyz="1.3479E-09" izz="0.002229"/>
    </inertial>
    <visual>
      <origin rpy="0 0 0" xyz="0 0 0"/>
      <geometry>
        <mesh filename="package://xr1urdf/meshes/Left_5_1_Link.STL"/>
      </geometry>
      <material name="">
        <color rgba="0.79216 0.81961 0.93333 1"/>
      </material>
    </visual>
    <collision>
      <origin rpy="0 0 0" xyz="0 0 0"/>
      <geometry>
        <mesh filename="package://xr1urdf/meshes/Left_5_1_Link.STL"/>
      </geometry>
    </collision>
  </link>
  <joint name="Left_5_1_Joint" type="revolute">
    <origin rpy="1.5707963267949 -1.5707963267949 0" xyz="0.0702912178455524 0.0248770065332455 0.00038803380721289"/>
    <parent link="Left_Hand_Link"/>
    <child link="Left_5_1_Link"/>
    <axis xyz="0 0 -1"/>
    <limit effort="30" lower="0.0" upper="1.30" velocity="3.14"/>
  </joint>
  <link name="Left_5_2_Link">
    <inertial>
      <origin rpy="0 0 0" xyz="-0.00012673 -0.0053846 9.956E-05"/>
      <mass value="0.01531"/>
      <inertia ixx="0.0006332" ixy="-1.3738E-09" ixz="2.5402E-11" iyy="0.0006332" iyz="1.0791E-09" izz="0.001025"/>
    </inertial>
    <visual>
      <origin rpy="0 0 0" xyz="0 0 0"/>
      <geometry>
        <mesh filename="package://xr1urdf/meshes/Left_5_2_Link.STL"/>
      </geometry>
      <material name="">
        <color rgba="0.79216 0.81961 0.93333 1"/>
      </material>
    </visual>
    <collision>
      <origin rpy="0 0 0" xyz="0 0 0"/>
      <geometry>
        <mesh filename="package://xr1urdf/meshes/Left_5_2_Link.STL"/>
      </geometry>
    </collision>
  </link>
  <joint name="Left_5_2_Joint" type="revolute">
    <origin rpy="0 0 0" xyz="0 -0.0182607269287086 0"/>
    <parent link="Left_5_1_Link"/>
    <child link="Left_5_2_Link"/>
    <axis xyz="0 0 -1"/>
    <limit effort="30" lower="0.0" upper="1.56" velocity="3.14"/>
  </joint>
  <link name="Left_5_3_Link">
    <inertial>
      <origin rpy="0 0 0" xyz="0.00024002 -0.0037831 9.9892E-05"/>
      <mass value="0.007844"/>
      <inertia ixx="0.0003171" ixy="1.8637E-09" ixz="-4.9209E-11" iyy="0.0005152" iyz="7.7571E-10" izz="0.0003161"/>
    </inertial>
    <visual>
      <origin rpy="0 0 0" xyz="0 0 0"/>
      <geometry>
        <mesh filename="package://xr1urdf/meshes/Left_5_3_Link.STL"/>
      </geometry>
      <material name="">
        <color rgba="0.79216 0.81961 0.93333 1"/>
      </material>
    </visual>
    <collision>
      <origin rpy="0 0 0" xyz="0 0 0"/>
      <geometry>
        <mesh filename="package://xr1urdf/meshes/Left_5_3_Link.STL"/>
      </geometry>
    </collision>
  </link>
  <joint name="Left_5_3_Joint" type="revolute">
    <origin rpy="0 0 0" xyz="0 -0.0220256805419934 0"/>
    <parent link="Left_5_2_Link"/>
    <child link="Left_5_3_Link"/>
    <axis xyz="0 0 -1"/>
    <limit effort="30" lower="0.0" upper="1.87" velocity="3.14"/>
  </joint>
  <link name="Right_Shoulder_Link">
    <inertial>
      <origin rpy="0 0 0" xyz="-4.1264E-05 -0.00075525 0.00067603"/>
      <mass value="0.8107"/>
      <inertia ixx="0.08441" ixy="0" ixz="0" iyy="0.08441" iyz="0" izz="0.06554"/>
    </inertial>
    <visual>
      <origin rpy="0 0 0" xyz="0 0 0"/>
      <geometry>
        <mesh filename="package://xr1urdf/meshes/Right_Shoulder_Link.STL"/>
      </geometry>
      <material name="">
        <color rgba="0.79216 0.81961 0.93333 1"/>
      </material>
    </visual>
    <collision>
      <origin rpy="0 0 0" xyz="0 0 0"/>
      <geometry>
        <mesh filename="package://xr1urdf/meshes/Right_Shoulder_Link.STL"/>
      </geometry>
    </collision>
  </link>
  <joint name="Right_Shoulder_X" type="revolute">
    <origin rpy="1.2217 -1.5708 0" xyz="0.25847 0.15112 0.001585"/>
    <parent link="Back_Link"/>
    <child link="Right_Shoulder_Link"/>
    <axis xyz="0 0.00069016 1"/>
    <dynamics friction="0.1"/>
    <limit effort="30" lower="-2.26" upper="2.26" velocity="3.14"/>
  </joint>
  <link name="Right_Arm_Link">
    <inertial>
      <origin rpy="0 0 0" xyz="0.10162 -0.03901 0.0051548"/>
      <mass value="1.022"/>
      <inertia ixx="0.05869" ixy="5.2856E-05" ixz="-1.2809E-05" iyy="0.05866" iyz="3.2344E-06" izz="0.01331"/>
    </inertial>
    <visual>
      <origin rpy="0 0 0" xyz="0 0 0"/>
      <geometry>
        <mesh filename="package://xr1urdf/meshes/Right_Arm_Link.STL"/>
      </geometry>
      <material name="">
        <color rgba="0.79216 0.81961 0.93333 1"/>
      </material>
    </visual>
    <collision>
      <origin rpy="0 0 0" xyz="0 0 0"/>
      <geometry>
        <mesh filename="package://xr1urdf/meshes/Right_Arm_Link.STL"/>
      </geometry>
    </collision>
  </link>
  <joint name="Right_Shoulder_Y" type="revolute">
    <origin rpy="1.5708 -0.3491 1.6148" xyz="0 0 0"/>
    <parent link="Right_Shoulder_Link"/>
    <child link="Right_Arm_Link"/>
    <axis xyz="-0.043991 3.039E-05 0.99903"/>
    <dynamics friction="0.1"/>
    <limit effort="30" lower="-1.88" upper="0.188" velocity="3.14"/>
  </joint>
  <link name="Right_Elbow_Link">
    <inertial>
      <origin rpy="0 0 0" xyz="0.00023182 -2.5152E-05 -0.21867"/>
      <mass value="0.7854"/>
      <inertia ixx="0.02333" ixy="0" ixz="0" iyy="0.02333" iyz="0" izz="0.02"/>
    </inertial>
    <visual>
      <origin rpy="0 0 0" xyz="0 0 0"/>
      <geometry>
        <mesh filename="package://xr1urdf/meshes/Right_Elbow_Link.STL"/>
      </geometry>
      <material name="">
        <color rgba="0.79216 0.81961 0.93333 1"/>
      </material>
    </visual>
    <collision>
      <origin rpy="0 0 0" xyz="0 0 0"/>
      <geometry>
        <mesh filename="package://xr1urdf/meshes/Right_Elbow_Link.STL"/>
      </geometry>
    </collision>
  </link>
  <joint name="Right_Elbow_Z" type="revolute">
    <origin rpy="-1.6148 0 1.5701" xyz="-0.00016706 -0.051647 0.0029862"/>
    <parent link="Right_Arm_Link"/>
    <child link="Right_Elbow_Link"/>
    <axis xyz="0 0 -1"/>
    <limit effort="30" lower="-3.14" upper="3.14" velocity="3.14"/>
  </joint>
  <link name="Right_Foream_Link">
    <inertial>
      <origin rpy="0 0 0" xyz="-0.0049256 0.047194 -0.00018363"/>
      <mass value="0.6233"/>
      <inertia ixx="0.01023" ixy="-3.6866E-06" ixz="-7.2573E-08" iyy="0.01019" iyz="-1.7964E-06" izz="0.002818"/>
    </inertial>
    <visual>
      <origin rpy="0 0 0" xyz="0 0 0"/>
      <geometry>
        <mesh filename="package://xr1urdf/meshes/Right_Foream_Link.STL"/>
      </geometry>
      <material name="">
        <color rgba="0.79216 0.81961 0.93333 1"/>
      </material>
    </visual>
    <collision>
      <origin rpy="0 0 0" xyz="0 0 0"/>
      <geometry>
        <mesh filename="package://xr1urdf/meshes/Right_Foream_Link.STL"/>
      </geometry>
    </collision>
  </link>
  <joint name="Right_Elbow_X" type="revolute">
    <origin rpy="-1.57947630138636 0 -1.5767307988545" xyz="0.00023182210159195 -2.51481413512666E-05 -0.218666825669526"/>
    <parent link="Right_Elbow_Link"/>
    <child link="Right_Foream_Link"/>
    <axis xyz="-0.00593443722633651 -0.0086797127543666 0.99994472099277"/>
    <limit effort="30" lower="-1.57" upper="0.1" velocity="3.14"/>
  </joint>
  <link name="Right_Wrist_Link">
    <inertial>
      <origin rpy="0 0 0" xyz="0.0090015 0.0016172 0.19203"/>
      <mass value="0.5484"/>
      <inertia ixx="0.01411" ixy="0" ixz="0" iyy="0.01411" iyz="0" izz="0.02685"/>
    </inertial>
    <visual>
      <origin rpy="0 0 0" xyz="0 0 0"/>
      <geometry>
        <mesh filename="package://xr1urdf/meshes/Right_Wrist_Link.STL"/>
      </geometry>
      <material name="">
        <color rgba="0.79216 0.81961 0.93333 1"/>
      </material>
    </visual>
    <collision>
      <origin rpy="0 0 0" xyz="0 0 0"/>
      <geometry>
        <mesh filename="package://xr1urdf/meshes/Right_Wrist_Link.STL"/>
      </geometry>
    </collision>
  </link>
  <joint name="Right_Wrist_Z" type="revolute">
    <origin rpy="-1.56211635220343 -8.67361737988404E-19 0" xyz="0 0 0"/>
    <parent link="Right_Foream_Link"/>
    <child link="Right_Wrist_Link"/>
    <axis xyz="0 0 1"/>
    <limit effort="30" lower="-3.14" upper="3.14" velocity="3.14"/>
  </joint>
  <link name="Right_Wrist_Link2">
    <inertial>
      <origin rpy="0 0 0" xyz="-1.7158E-08 -7.9833E-09 1.7109E-08"/>
      <mass value="0.5362"/>
      <inertia ixx="0.00512" ixy="0" ixz="0" iyy="0.00512" iyz="0" izz="0.00512"/>
    </inertial>
    <visual>
      <origin rpy="0 0 0" xyz="0 0 0"/>
      <geometry>
        <mesh filename="package://xr1urdf/meshes/Right_Wrist_Link2.STL"/>
      </geometry>
      <material name="">
        <color rgba="0.79216 0.81961 0.93333 1"/>
      </material>
    </visual>
    <collision>
      <origin rpy="0 0 0" xyz="0 0 0"/>
      <geometry>
        <mesh filename="package://xr1urdf/meshes/Right_Wrist_Link2.STL"/>
      </geometry>
    </collision>
  </link>
  <joint name="Right_Wrist_Y" type="revolute">
    <origin rpy="-1.5707963267949 0 -1.5767307988545" xyz="0.00784287714185615 0.000519681604099265 0.219279727935792"/>
    <parent link="Right_Wrist_Link"/>
    <child link="Right_Wrist_Link2"/>
    <axis xyz="0 0 1"/>
    <limit effort="30" lower="-1.13" upper="1.07" velocity="3.14"/>
  </joint>
  <link name="Right_Hand_Link">
    <inertial>
      <origin rpy="0 0 0" xyz="0.03414 -0.00043423 9.7572E-05"/>
      <mass value="0.1449"/>
      <inertia ixx="0.006892" ixy="0" ixz="0" iyy="0.005566" iyz="0" izz="0.003742"/>
    </inertial>
    <visual>
      <origin rpy="0 0 0" xyz="0 0 0"/>
      <geometry>
        <mesh filename="package://xr1urdf/meshes/Right_Hand_Link.STL"/>
      </geometry>
      <material name="">
        <color rgba="0.79216 0.81961 0.93333 1"/>
      </material>
    </visual>
    <collision>
      <origin rpy="0 0 0" xyz="0 0 0"/>
      <geometry>
        <mesh filename="package://xr1urdf/meshes/Right_Hand_Link.STL"/>
      </geometry>
    </collision>
  </link>
  <joint name="Right_Wrist_X" type="revolute">
    <origin rpy="-1.5707963267949 1.89103620342991E-16 -1.5707963267949" xyz="0 0 0"/>
    <parent link="Right_Wrist_Link2"/>
    <child link="Right_Hand_Link"/>
    <axis xyz="0 0 1"/>
    <limit effort="30" lower="-0.88" upper="0.754" velocity="3.14"/>
  </joint>
  <link name="Right_1_1_Link">
    <inertial>
      <origin rpy="0 0 0" xyz="0.0018576 -0.0017673 -0.00013841"/>
      <mass value="0.0648"/>
      <inertia ixx="0.001983" ixy="1.823E-08" ixz="1.4278E-09" iyy="0.001983" iyz="-1.3583E-09" izz="0.002841"/>
    </inertial>
    <visual>
      <origin rpy="0 0 0" xyz="0 0 0"/>
      <geometry>
        <mesh filename="package://xr1urdf/meshes/Right_1_1_Link.STL"/>
      </geometry>
      <material name="">
        <color rgba="0.79216 0.81961 0.93333 1"/>
      </material>
    </visual>
    <collision>
      <origin rpy="0 0 0" xyz="0 0 0"/>
      <geometry>
        <mesh filename="package://xr1urdf/meshes/Right_1_1_Link.STL"/>
      </geometry>
    </collision>
  </link>
  <joint name="Right_1_1_Joint" type="revolute">
    <origin rpy="-2.82585434013322 -0.967918454119807 -1.5707963267949" xyz="0.0463873711048263 -0.0227514450525238 0.0270481463075324"/>
    <parent link="Right_Hand_Link"/>
    <child link="Right_1_1_Link"/>
    <axis xyz="0 0 -1"/>
    <limit effort="30" lower="0.0" upper="1.21" velocity="3.14"/>
  </joint>
  <link name="Right_1_2_Link">
    <inertial>
      <origin rpy="0 0 0" xyz="0.0037429 -0.0026223 -1.4605E-05"/>
      <mass value="0.01812"/>
      <inertia ixx="0.0001332" ixy="2.3738E-08" ixz="1.3228E-10" iyy="0.0001972" iyz="-9.2673E-11" izz="0.0001339"/>
    </inertial>
    <visual>
      <origin rpy="0 0 0" xyz="0 0 0"/>
      <geometry>
        <mesh filename="package://xr1urdf/meshes/Right_1_2_Link.STL"/>
      </geometry>
      <material name="">
        <color rgba="0.79216 0.81961 0.93333 1"/>
      </material>
    </visual>
    <collision>
      <origin rpy="0 0 0" xyz="0 0 0"/>
      <geometry>
        <mesh filename="package://xr1urdf/meshes/Right_1_2_Link.STL"/>
      </geometry>
    </collision>
  </link>
  <joint name="Right_1_2_Joint" type="revolute">
    <origin rpy="-7.75457443313983E-07 -3.23667641410902E-07 1.05731325888986E-07" xyz="0.0124478206926872 -0.0115460575511548 0"/>
    <parent link="Right_1_1_Link"/>
    <child link="Right_1_2_Link"/>
    <axis xyz="0 0 -1"/>
    <limit effort="30" lower="0.0" upper="1.45" velocity="3.14"/>
  </joint>
  <link name="Right_2_1_Link">
    <inertial>
      <origin rpy="0 0 0" xyz="-6.0375E-05 -0.004442 -8.9343E-05"/>
      <mass value="0.05105"/>
      <inertia ixx="0.0017" ixy="-1.0587E-09" ixz="-2.1295E-11" iyy="0.0017" iyz="-1.5667E-09" izz="0.002498"/>
    </inertial>
    <visual>
      <origin rpy="0 0 0" xyz="0 0 0"/>
      <geometry>
        <mesh filename="package://xr1urdf/meshes/Right_2_1_Link.STL"/>
      </geometry>
      <material name="">
        <color rgba="0.79216 0.81961 0.93333 1"/>
      </material>
    </visual>
    <collision>
      <origin rpy="0 0 0" xyz="0 0 0"/>
      <geometry>
        <mesh filename="package://xr1urdf/meshes/Right_2_1_Link.STL"/>
      </geometry>
    </collision>
  </link>
  <joint name="Right_2_1_Joint" type="revolute">
    <origin rpy="1.5707963267949 -1.5707963267949 0" xyz="0.07421799091684 -0.0211750333284337 0.000927044928134585"/>
    <parent link="Right_Hand_Link"/>
    <child link="Right_2_1_Link"/>
    <axis xyz="0 0 1"/>
    <limit effort="30" lower="0.0" upper="1.00" velocity="3.14"/>
  </joint>
  <link name="Right_2_2_Link">
    <inertial>
      <origin rpy="0 0 0" xyz="-0.0004717 -0.0059497 -0.00010746"/>
      <mass value="0.01234"/>
      <inertia ixx="0.0008295" ixy="-5.6493E-09" ixz="-1.0204E-10" iyy="0.0008295" iyz="-1.287E-09" izz="0.001208"/>
    </inertial>
    <visual>
      <origin rpy="0 0 0" xyz="0 0 0"/>
      <geometry>
        <mesh filename="package://xr1urdf/meshes/Right_2_2_Link.STL"/>
      </geometry>
      <material name="">
        <color rgba="0.79216 0.81961 0.93333 1"/>
      </material>
    </visual>
    <collision>
      <origin rpy="0 0 0" xyz="0 0 0"/>
      <geometry>
        <mesh filename="package://xr1urdf/meshes/Right_2_2_Link.STL"/>
      </geometry>
    </collision>
  </link>
  <joint name="Right_2_2_Joint" type="revolute">
    <origin rpy="0 0 0" xyz="0 -0.0180361175537143 0"/>
    <parent link="Right_2_1_Link"/>
    <child link="Right_2_2_Link"/>
    <axis xyz="0 0 1"/>
    <limit effort="30" lower="0.0" upper="1.20" velocity="3.14"/>
  </joint>
  <link name="Right_2_3_Link">
    <inertial>
      <origin rpy="0 0 0" xyz="-0.00082688 -0.0043373 -0.00010313"/>
      <mass value="0.006588"/>
      <inertia ixx="0.0004257" ixy="-7.3617E-09" ixz="-1.7504E-10" iyy="0.0006273" iyz="-9.1816E-10" izz="0.0004238"/>
    </inertial>
    <visual>
      <origin rpy="0 0 0" xyz="0 0 0"/>
      <geometry>
        <mesh filename="package://xr1urdf/meshes/Right_2_3_Link.STL"/>
      </geometry>
      <material name="">
        <color rgba="0.79216 0.81961 0.93333 1"/>
      </material>
    </visual>
    <collision>
      <origin rpy="0 0 0" xyz="0 0 0"/>
      <geometry>
        <mesh filename="package://xr1urdf/meshes/Right_2_3_Link.STL"/>
      </geometry>
    </collision>
  </link>
  <joint name="Right_2_3_Joint" type="revolute">
    <origin rpy="0 0 0" xyz="0 -0.0220256805419884 0"/>
    <parent link="Right_2_2_Link"/>
    <child link="Right_2_3_Link"/>
    <axis xyz="0 0 1"/>
    <limit effort="30" lower="0.0" upper="1.45" velocity="3.14"/>
  </joint>
  <link name="Right_3_1_Link">
    <inertial>
      <origin rpy="0 0 0" xyz="-0.00013722 -0.0054219 1.8135E-05"/>
      <mass value="0.05197"/>
      <inertia ixx="0.001723" ixy="-3.2178E-09" ixz="1.0762E-11" iyy="0.001723" iyz="4.2522E-10" izz="0.002543"/>
    </inertial>
    <visual>
      <origin rpy="0 0 0" xyz="0 0 0"/>
      <geometry>
        <mesh filename="package://xr1urdf/meshes/Right_3_1_Link.STL"/>
      </geometry>
      <material name="">
        <color rgba="0.79216 0.81961 0.93333 1"/>
      </material>
    </visual>
    <collision>
      <origin rpy="0 0 0" xyz="0 0 0"/>
      <geometry>
        <mesh filename="package://xr1urdf/meshes/Right_3_1_Link.STL"/>
      </geometry>
    </collision>
  </link>
  <joint name="Right_3_1_Joint" type="revolute">
    <origin rpy="1.5707963267949 -1.5707963267949 0" xyz="0.0764901009021922 -0.00561489331473879 -0.00175480169051168"/>
    <parent link="Right_Hand_Link"/>
    <child link="Right_3_1_Link"/>
    <axis xyz="0 0 1"/>
    <limit effort="30" lower="0.0" upper="1.17" velocity="3.14"/>
  </joint>
  <link name="Right_3_2_Link">
    <inertial>
      <origin rpy="0 0 0" xyz="-0.00056785 -0.0061714 1.9798E-05"/>
      <mass value="0.01299"/>
      <inertia ixx="0.0008611" ixy="-7.0543E-09" ixz="2.2631E-11" iyy="0.0008611" iyz="2.4596E-10" izz="0.001271"/>
    </inertial>
    <visual>
      <origin rpy="0 0 0" xyz="0 0 0"/>
      <geometry>
        <mesh filename="package://xr1urdf/meshes/Right_3_2_Link.STL"/>
      </geometry>
      <material name="">
        <color rgba="0.79216 0.81961 0.93333 1"/>
      </material>
    </visual>
    <collision>
      <origin rpy="0 0 0" xyz="0 0 0"/>
      <geometry>
        <mesh filename="package://xr1urdf/meshes/Right_3_2_Link.STL"/>
      </geometry>
    </collision>
  </link>
  <joint name="Right_3_2_Joint" type="revolute">
    <origin rpy="0 0 0" xyz="0 -0.0205278778076158 0"/>
    <parent link="Right_3_1_Link"/>
    <child link="Right_3_2_Link"/>
    <axis xyz="0 0 1"/>
    <limit effort="30" lower="0.0" upper="1.41" velocity="3.14"/>
  </joint>
  <link name="Right_3_3_Link">
    <inertial>
      <origin rpy="0 0 0" xyz="-0.00092117 -0.0045548 2.1672E-05"/>
      <mass value="0.006329"/>
      <inertia ixx="0.0004128" ixy="-8.6123E-09" ixz="4.0979E-11" iyy="0.0006019" iyz="2.0262E-10" izz="0.0004111"/>
    </inertial>
    <visual>
      <origin rpy="0 0 0" xyz="0 0 0"/>
      <geometry>
        <mesh filename="package://xr1urdf/meshes/Right_3_3_Link.STL"/>
      </geometry>
      <material name="">
        <color rgba="0.79216 0.81961 0.93333 1"/>
      </material>
    </visual>
    <collision>
      <origin rpy="0 0 0" xyz="0 0 0"/>
      <geometry>
        <mesh filename="package://xr1urdf/meshes/Right_3_3_Link.STL"/>
      </geometry>
    </collision>
  </link>
  <joint name="Right_3_3_Joint" type="revolute">
    <origin rpy="0 0 0" xyz="0 -0.0220256042480499 0"/>
    <parent link="Right_3_2_Link"/>
    <child link="Right_3_3_Link"/>
    <axis xyz="0 0 1"/>
    <limit effort="30" lower="0.0" upper="1.69" velocity="3.14"/>
  </joint>
  <link name="Right_4_1_Link">
    <inertial>
      <origin rpy="0 0 0" xyz="-8.9301E-05 -0.0047682 6.5533E-05"/>
      <mass value="0.04255"/>
      <inertia ixx="0.001576" ixy="-1.6758E-09" ixz="2.3031E-11" iyy="0.001576" iyz="1.2297E-09" izz="0.002552"/>
    </inertial>
    <visual>
      <origin rpy="0 0 0" xyz="0 0 0"/>
      <geometry>
        <mesh filename="package://xr1urdf/meshes/Right_4_1_Link.STL"/>
      </geometry>
      <material name="">
        <color rgba="0.79216 0.81961 0.93333 1"/>
      </material>
    </visual>
    <collision>
      <origin rpy="0 0 0" xyz="0 0 0"/>
      <geometry>
        <mesh filename="package://xr1urdf/meshes/Right_4_1_Link.STL"/>
      </geometry>
    </collision>
  </link>
  <joint name="Right_4_1_Joint" type="revolute">
    <origin rpy="1.5707963267949 -1.5707963267949 0" xyz="0.073528980296718 0.00968487170586999 -0.000963213860921908"/>
    <parent link="Right_Hand_Link"/>
    <child link="Right_4_1_Link"/>
    <axis xyz="0 0 1"/>
    <limit effort="30" lower="0.0" upper="1.20" velocity="3.14"/>
  </joint>
  <link name="Right_4_2_Link">
    <inertial>
      <origin rpy="0 0 0" xyz="-0.00050562 -0.0052511 7.4747E-05"/>
      <mass value="0.01146"/>
      <inertia ixx="0.0007867" ixy="-5.3445E-09" ixz="7.6075E-11" iyy="0.0007867" iyz="7.9006E-10" izz="0.001122"/>
    </inertial>
    <visual>
      <origin rpy="0 0 0" xyz="0 0 0"/>
      <geometry>
        <mesh filename="package://xr1urdf/meshes/Right_4_2_Link.STL"/>
      </geometry>
      <material name="">
        <color rgba="0.79216 0.81961 0.93333 1"/>
      </material>
    </visual>
    <collision>
      <origin rpy="0 0 0" xyz="0 0 0"/>
      <geometry>
        <mesh filename="package://xr1urdf/meshes/Right_4_2_Link.STL"/>
      </geometry>
    </collision>
  </link>
  <joint name="Right_4_2_Joint" type="revolute">
    <origin rpy="0 0 0" xyz="0 -0.0203540802001998 0"/>
    <parent link="Right_4_1_Link"/>
    <child link="Right_4_2_Link"/>
    <axis xyz="0 0 1"/>
    <limit effort="30" lower="0.0" upper="1.45" velocity="3.14"/>
  </joint>
  <link name="Right_4_3_Link">
    <inertial>
      <origin rpy="0 0 0" xyz="-0.00086014 -0.0036522 7.5558E-05"/>
      <mass value="0.00662"/>
      <inertia ixx="0.0004272" ixy="-6.4482E-09" ixz="1.334E-10" iyy="0.0006304" iyz="5.6641E-10" izz="0.0004254"/>
    </inertial>
    <visual>
      <origin rpy="0 0 0" xyz="0 0 0"/>
      <geometry>
        <mesh filename="package://xr1urdf/meshes/Right_4_3_Link.STL"/>
      </geometry>
      <material name="">
        <color rgba="0.79216 0.81961 0.93333 1"/>
      </material>
    </visual>
    <collision>
      <origin rpy="0 0 0" xyz="0 0 0"/>
      <geometry>
        <mesh filename="package://xr1urdf/meshes/Right_4_3_Link.STL"/>
      </geometry>
    </collision>
  </link>
  <joint name="Right_4_3_Joint" type="revolute">
    <origin rpy="0 0 0" xyz="0 -0.0220256805419927 0"/>
    <parent link="Right_4_2_Link"/>
    <child link="Right_4_3_Link"/>
    <axis xyz="0 0 1"/>
    <limit effort="30" lower="0.0" upper="1.74" velocity="3.14"/>
  </joint>
  <link name="Right_5_1_Link">
    <inertial>
      <origin rpy="0 0 0" xyz="0.00046586 -0.0042115 8.9979E-05"/>
      <mass value="0.0465"/>
      <inertia ixx="0.001585" ixy="6.979E-09" ixz="-1.4911E-10" iyy="0.001585" iyz="1.3479E-09" izz="0.002229"/>
    </inertial>
    <visual>
      <origin rpy="0 0 0" xyz="0 0 0"/>
      <geometry>
        <mesh filename="package://xr1urdf/meshes/Right_5_1_Link.STL"/>
      </geometry>
      <material name="">
        <color rgba="0.79216 0.81961 0.93333 1"/>
      </material>
    </visual>
    <collision>
      <origin rpy="0 0 0" xyz="0 0 0"/>
      <geometry>
        <mesh filename="package://xr1urdf/meshes/Right_5_1_Link.STL"/>
      </geometry>
    </collision>
  </link>
  <joint name="Right_5_1_Joint" type="revolute">
    <origin rpy="1.5707963267949 -1.5707963267949 0" xyz="0.0702912178455524 0.0248770065332455 -0.00038803380721289"/>
    <parent link="Right_Hand_Link"/>
    <child link="Right_5_1_Link"/>
    <axis xyz="0 0 1"/>
    <limit effort="30" lower="0.0" upper="1.30" velocity="3.14"/>
  </joint>
  <link name="Right_5_2_Link">
    <inertial>
      <origin rpy="0 0 0" xyz="0.00012673 -0.0053846 9.956E-05"/>
      <mass value="0.01531"/>
      <inertia ixx="0.0006332" ixy="1.3738E-09" ixz="-2.5402E-11" iyy="0.0006332" iyz="1.0791E-09" izz="0.001025"/>
    </inertial>
    <visual>
      <origin rpy="0 0 0" xyz="0 0 0"/>
      <geometry>
        <mesh filename="package://xr1urdf/meshes/Right_5_2_Link.STL"/>
      </geometry>
      <material name="">
        <color rgba="0.79216 0.81961 0.93333 1"/>
      </material>
    </visual>
    <collision>
      <origin rpy="0 0 0" xyz="0 0 0"/>
      <geometry>
        <mesh filename="package://xr1urdf/meshes/Right_5_2_Link.STL"/>
      </geometry>
    </collision>
  </link>
  <joint name="Right_5_2_Joint" type="revolute">
    <origin rpy="0 0 0" xyz="0 -0.0182607269287086 0"/>
    <parent link="Right_5_1_Link"/>
    <child link="Right_5_2_Link"/>
    <axis xyz="0 0 1"/>
    <limit effort="30" lower="0.0" upper="1.56" velocity="3.14"/>
  </joint>
  <link name="Right_5_3_Link">
    <inertial>
      <origin rpy="0 0 0" xyz="-0.00024002 -0.0037831 9.9892E-05"/>
      <mass value="0.007844"/>
      <inertia ixx="0.0003173" ixy="-1.8637E-09" ixz="4.9209E-11" iyy="0.0005154" iyz="7.7571E-10" izz="0.0003161"/>
    </inertial>
    <visual>
      <origin rpy="0 0 0" xyz="0 0 0"/>
      <geometry>
        <mesh filename="package://xr1urdf/meshes/Right_5_3_Link.STL"/>
      </geometry>
      <material name="">
        <color rgba="0.79216 0.81961 0.93333 1"/>
      </material>
    </visual>
    <collision>
      <origin rpy="0 0 0" xyz="0 0 0"/>
      <geometry>
        <mesh filename="package://xr1urdf/meshes/Right_5_3_Link.STL"/>
      </geometry>
    </collision>
  </link>
  <joint name="Right_5_3_Joint" type="revolute">
    <origin rpy="0 0 0" xyz="0 -0.0220256805419934 0"/>
    <parent link="Right_5_2_Link"/>
    <child link="Right_5_3_Link"/>
    <axis xyz="0 0 1"/>
    <limit effort="30" lower="0.0" upper="1.87" velocity="3.14"/>
  </joint>
  <link name="Leg_Camera_Link">
    <collision>
      <origin rpy="0 0 0" xyz="0 0 0"/>
      <geometry>
        <box size="0.01 0.01 0.01"/>
      </geometry>
    </collision>
    <visual>
      <origin rpy="0 0 0" xyz="0 0 0"/>
      <geometry>
        <box size="0.01 0.01 0.01"/>
      </geometry>
    </visual>
    <inertial>
      <mass value="0.001"/>
      <origin rpy="0 0 0" xyz="0 0 0"/>
      <inertia ixx="0.0001" ixy="0" ixz="0" iyy="0.0001" iyz="0" izz="0.0001"/>
    </inertial>
  </link>
  <joint name="leg_camera_joint" type="fixed">
    <parent link="Knee_Link"/>
    <child link="Leg_Camera_Link"/>
    <origin rpy="1.57079632679 0 0" xyz="0.12 -0.192 0"/>
    <axis xyz="1 0 0"/>
  </joint>
  <link name="Chest_Camera_Link">
    <collision>
      <origin rpy="0 0 0" xyz="0 0 0"/>
      <geometry>
        <box size="0.01 0.01 0.01"/>
      </geometry>
    </collision>
    <visual>
      <origin rpy="0 0 0" xyz="0 0 0"/>
      <geometry>
        <box size="0.01 0.01 0.01"/>
      </geometry>
    </visual>
    <inertial>
      <mass value="0.001"/>
      <origin rpy="0 0 0" xyz="0 0 0"/>
      <inertia ixx="0.0001" ixy="0" ixz="0" iyy="0.0001" iyz="0" izz="0.0001"/>
    </inertial>
  </link>
  <joint name="chest_camera_joint" type="fixed">
    <parent link="Back_Link"/>
    <child link="Chest_Camera_Link"/>
    <origin rpy="3.14159265359 -1.91879632679 0" xyz=" 0.148  0 0.148 "/>
    <axis xyz="1 0 0"/>
  </joint>
  <link name="Mouth_Camera_Link">
    <collision>
      <origin rpy="0 0 0" xyz="0 0 0"/>
      <geometry>
        <box size="0.01 0.01 0.01"/>
      </geometry>
    </collision>
    <visual>
      <origin rpy="0 0 0" xyz="0 0 0"/>
      <geometry>
        <box size="0.01 0.01 0.01"/>
      </geometry>
    </visual>
    <inertial>
      <mass value="0.001"/>
      <origin rpy="0 0 0" xyz="0 0 0"/>
      <inertia ixx="0.0001" ixy="0" ixz="0" iyy="0.0001" iyz="0" izz="0.0001"/>
    </inertial>
  </link>
  <joint name="mouth_camera_joint" type="fixed">
    <parent link="Head_Link"/>
    <child link="Mouth_Camera_Link"/>
    <origin rpy="3.14159265359 -2.00779632679 0" xyz="  -0.023 0 0.115"/>
    <axis xyz="1 0 0"/>
  </joint>
  <link name="Left_Eye_Camera_Link">
    <collision>
      <origin rpy="0 0 0" xyz="0 0 0"/>
      <geometry>
        <box size="0.01 0.01 0.01"/>
      </geometry>
    </collision>
    <visual>
      <origin rpy="0 0 0" xyz="0 0 0"/>
      <geometry>
        <box size="0.01 0.01 0.01"/>
      </geometry>
    </visual>
    <inertial>
      <mass value="0.001"/>
      <origin rpy="0 0 0" xyz="0 0 0"/>
      <inertia ixx="0.0001" ixy="0" ixz="0" iyy="0.0001" iyz="0" izz="0.0001"/>
    </inertial>
  </link>
  <joint name="left_eye_camera_joint" type="fixed">
    <parent link="Head_Link"/>
    <child link="Left_Eye_Camera_Link"/>
    <origin rpy="3.14159265359 -1.57079632679 0" xyz=" 0.046 -0.030 0.125"/>
    <axis xyz="1 0 0"/>
  </joint>
  <link name="Right_Eye_Camera_Link">
    <collision>
      <origin rpy="0 0 0" xyz="0 0 0"/>
      <geometry>
        <box size="0.01 0.01 0.01"/>
      </geometry>
    </collision>
    <visual>
      <origin rpy="0 0 0" xyz="0 0 0"/>
      <geometry>
        <box size="0.01 0.01 0.01"/>
      </geometry>
    </visual>
    <inertial>
      <mass value="0.001"/>
      <origin rpy="0 0 0" xyz="0 0 0"/>
      <inertia ixx="0.0001" ixy="0" ixz="0" iyy="0.0001" iyz="0" izz="0.0001"/>
    </inertial>
  </link>
  <joint name="right_eye_camera_joint" type="fixed">
    <parent link="Head_Link"/>
    <child link="Right_Eye_Camera_Link"/>
    <origin rpy="3.14159265359 -1.57079632679 0" xyz=" 0.046 0.030 0.125"/>
    <axis xyz="1 0 0"/>
  </joint>
  <link name="Forehead_Camera_Link">
    <collision>
      <origin rpy="0 0 0" xyz="0 0 0"/>
      <geometry>
        <box size="0.01 0.01 0.01"/>
      </geometry>
    </collision>
    <visual>
      <origin rpy="0 0 0" xyz="0 0 0"/>
      <geometry>
        <box size="0.01 0.01 0.01"/>
      </geometry>
    </visual>
    <inertial>
      <mass value="0.001"/>
      <origin rpy="0 0 0" xyz="0 0 0"/>
      <inertia ixx="0.0001" ixy="0" ixz="0" iyy="0.0001" iyz="0" izz="0.0001"/>
    </inertial>
  </link>
  <joint name="forehead_camera_joint" type="fixed">
    <parent link="Head_Link"/>
    <child link="Forehead_Camera_Link"/>
    <origin rpy="3.14159265359 -1.57079632679 0" xyz=" 0.096  -0.000 0.125"/>
    <axis xyz="1 0 0"/>
  </joint>
</robot>
